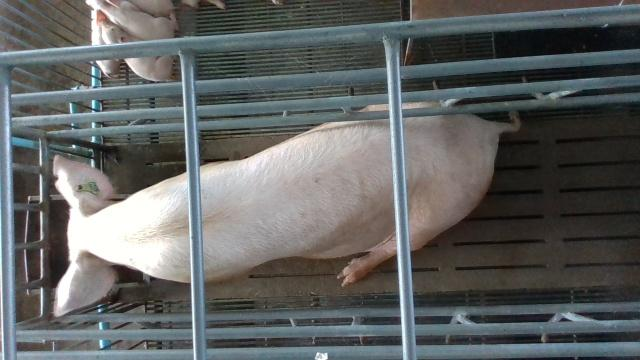piglet: (101, 20, 172, 81), (86, 0, 174, 40)
sow-sit: (53, 101, 522, 319)
